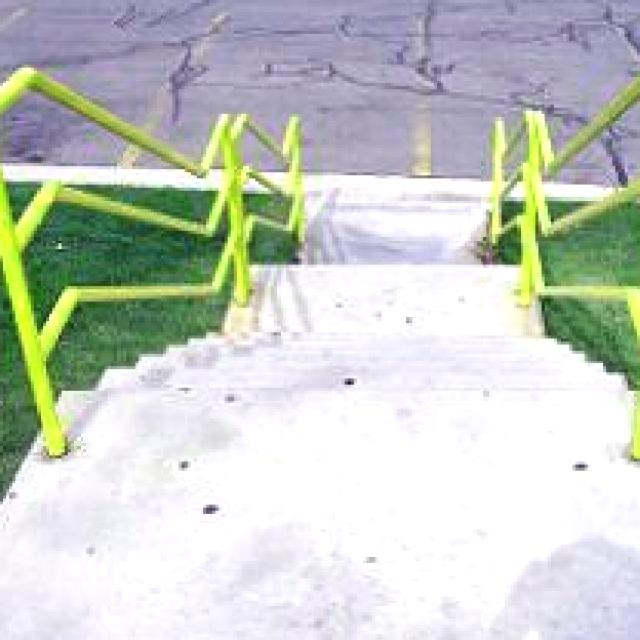downstair: (100, 296, 626, 524)
